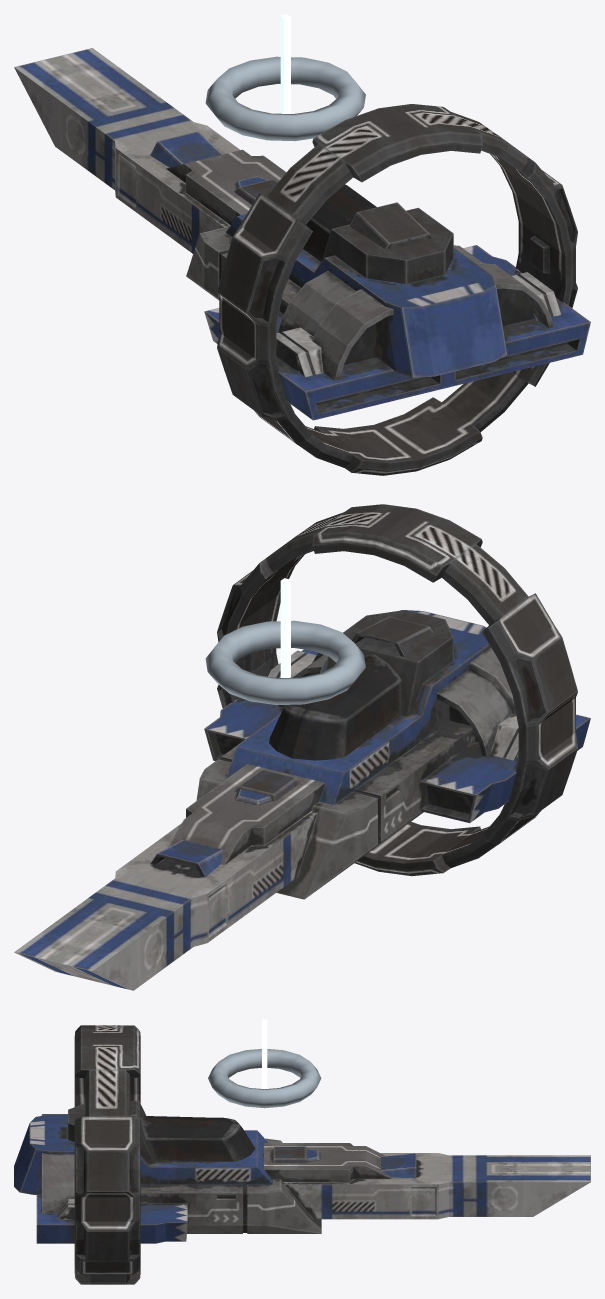
File: player_explorateur.glb
The picture shows the model from 3 angles, top to bottom: view 1: azimuth 30°, elevation 25°; view 2: azimuth 150°, elevation 25°; view 3: azimuth 270°, elevation 25°; orthographic projection. The views are drawn at different scales.
Visible parts, largest first — view 1: player_explorateur; view 2: player_explorateur; view 3: player_explorateur.
Part boxes in pixels (box(x1,y1,x2,y2)): player_explorateur: box(14, 14, 590, 475); player_explorateur: box(14, 504, 590, 990); player_explorateur: box(14, 1019, 590, 1284).
Size of the model in its own units: 0.924 by 0.9557 by 1.98.
Materials: 3 (1 with a texture image).
